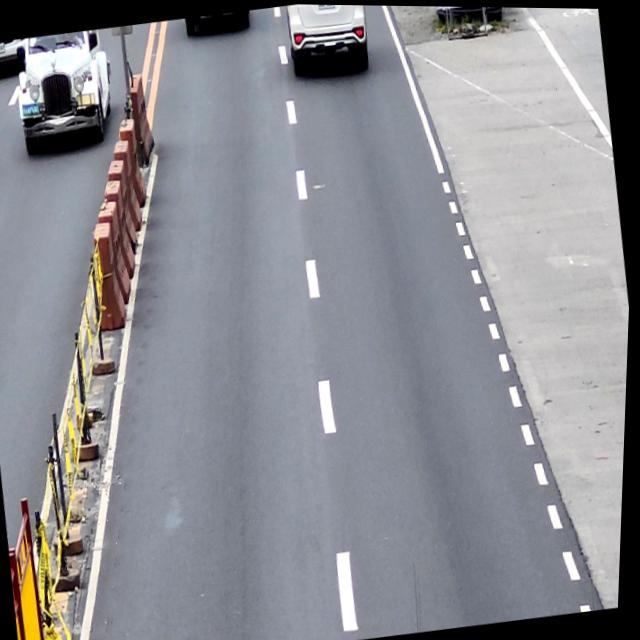Car: (283, 3, 373, 80)
License-Plate: (317, 4, 335, 9)
